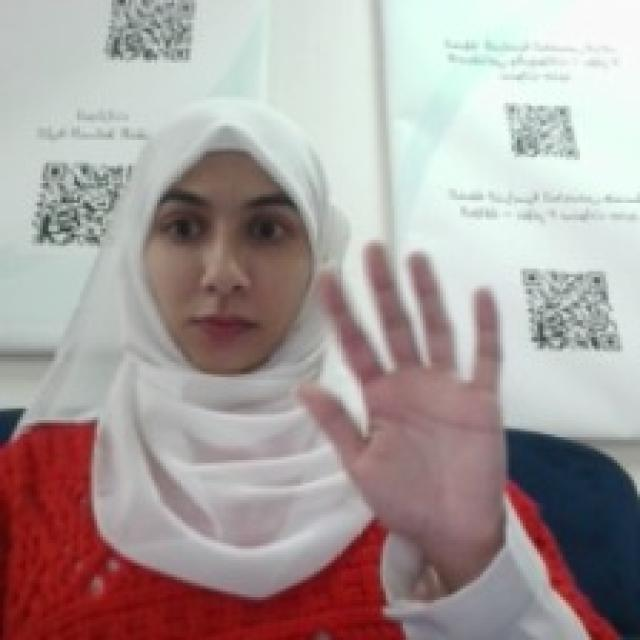Hello: (292, 235, 514, 546)
